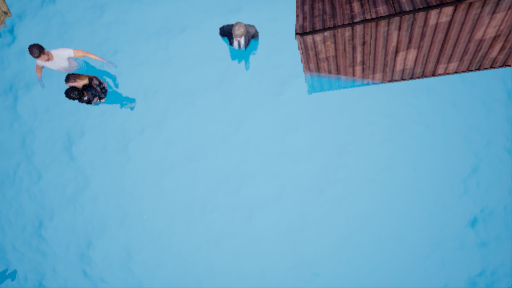person: (31, 41, 137, 120), (214, 23, 265, 66)
